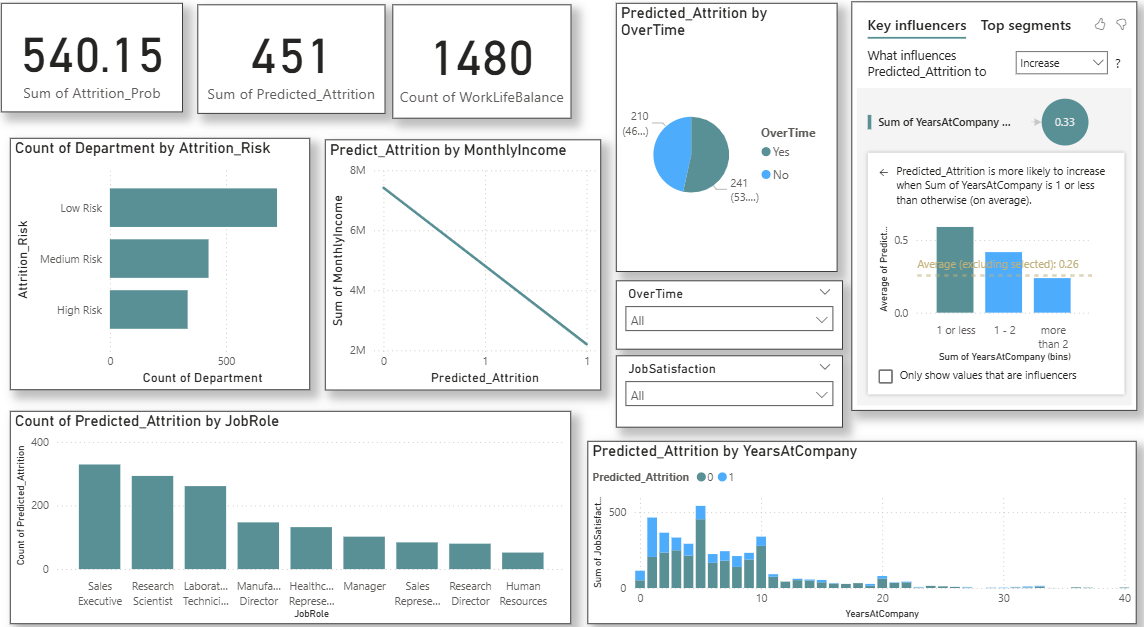

What the dashboard file says about the page in this screenshot:
{"tool":"powerbi","page":{"name":"Page 1","canvas":[1280,720],"ordinal":0},"visuals":[{"type":"card","fields":{"Values":["Sum(employee_attrition.Attrition_Prob)"]},"box":[6.3,12.6,202.1,121.6],"z":0},{"type":"card","fields":{"Values":["Sum(employee_attrition.Predicted_Attrition)"]},"box":[224.2,14.2,208.4,121.6],"z":1},{"type":"card","fields":{"Values":["CountNonNull(employee_attrition.WorkLifeBalance)"]},"box":[441.7,15,198.3,126.7],"z":2},{"type":"barChart","fields":{"Y":["CountNonNull(employee_attrition.Department)"],"Category":["employee_attrition.Attrition_Risk"]},"box":[16.7,163.3,333.3,280],"z":3},{"type":"clusteredColumnChart","fields":{"Y":["CountNonNull(employee_attrition.Predicted_Attrition)"],"Category":["employee_attrition.JobRole"]},"box":[16.7,466.7,623.3,236.7],"z":4},{"type":"pieChart","title":"Predicted_Attrition by OverTime","fields":{"Category":["employee_attrition.OverTime"],"Y":["Sum(employee_attrition.Predicted_Attrition)"]},"box":[690,12.6,246.3,298.4],"z":5},{"type":"lineStackedColumnComboChart","title":"Predicted_Attrition by YearsAtCompany","fields":{"Category":["employee_attrition.YearsAtCompany"],"Series":["employee_attrition.Predicted_Attrition"],"Y":["Sum(employee_attrition.JobSatisfaction)"]},"box":[658.3,500,610,203.3],"z":6},{"type":"lineChart","title":"Predict_Attrition by MonthlyIncome","fields":{"Y":["Sum(employee_attrition.MonthlyIncome)"],"Category":["employee_attrition.Predicted_Attrition"]},"box":[366.7,165,306.7,278.3],"z":7},{"type":"slicer","fields":{"Values":["employee_attrition.OverTime"]},"box":[690,321.7,251.7,76.7],"z":8},{"type":"slicer","fields":{"Values":["employee_attrition.JobSatisfaction"]},"box":[690,405,251.7,80],"z":9},{"type":"keyDriversVisual","fields":{"Target":["employee_attrition.Predicted_Attrition"],"ExplainBy":["Sum(employee_attrition.JobSatisfaction)","Sum(employee_attrition.YearsAtCompany)"]},"box":[952.1,11.1,317.4,454.7],"z":10}]}

Visuals, with their boxes in screenshot pixels (x1, y1, x2, y2), scaled from the page's 1280x720 canvas onto the 1144x627 screenshot:
card - Sum(employee_attrition.Attrition_Prob): box=[6, 11, 186, 117]
card - Sum(employee_attrition.Predicted_Attrition): box=[200, 12, 387, 118]
card - CountNonNull(employee_attrition.WorkLifeBalance): box=[395, 13, 572, 123]
barChart - CountNonNull(employee_attrition.Department) x employee_attrition.Attrition_Risk: box=[15, 142, 313, 386]
clusteredColumnChart - CountNonNull(employee_attrition.Predicted_Attrition) x employee_attrition.JobRole: box=[15, 406, 572, 613]
"Predicted_Attrition by OverTime" pieChart: box=[617, 11, 837, 271]
"Predicted_Attrition by YearsAtCompany" lineStackedColumnComboChart: box=[588, 435, 1134, 612]
"Predict_Attrition by MonthlyIncome" lineChart: box=[328, 144, 602, 386]
slicer - employee_attrition.OverTime: box=[617, 280, 842, 347]
slicer - employee_attrition.JobSatisfaction: box=[617, 353, 842, 422]
keyDriversVisual - employee_attrition.Predicted_Attrition x Sum(employee_attrition.JobSatisfaction): box=[851, 10, 1135, 406]
